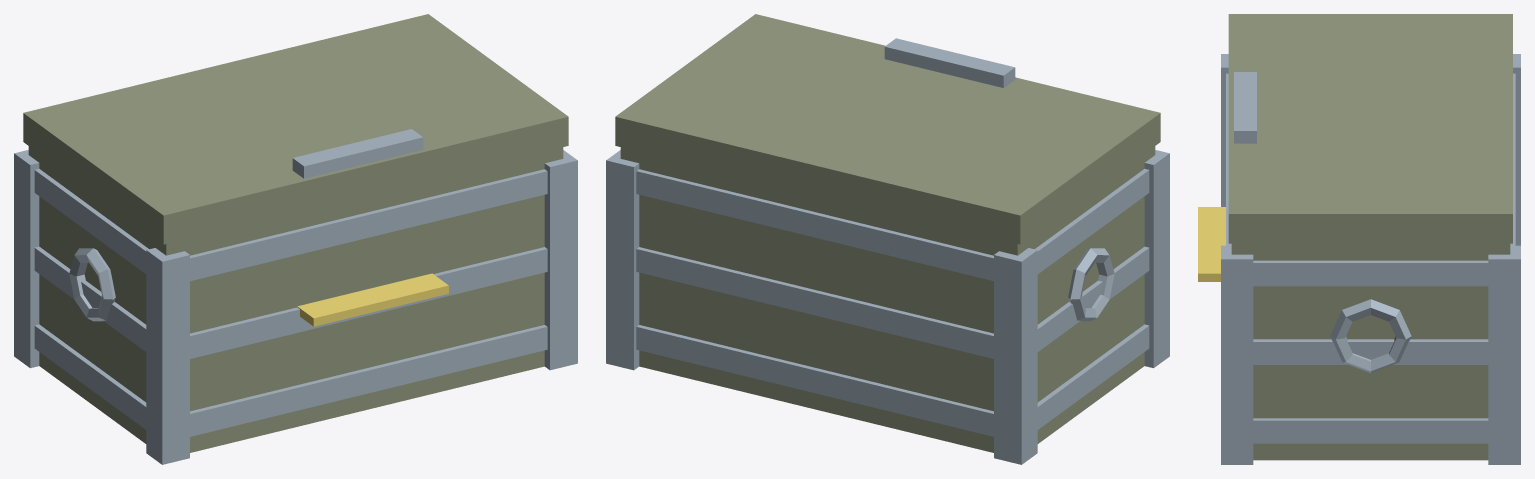
Rendered from wipe-day-survival-island-military-crate-64ac4aa5__27446.glb.
The picture shows the model from 3 angles, left to right: view 1: azimuth 30°, elevation 25°; view 2: azimuth 150°, elevation 25°; view 3: azimuth 270°, elevation 25°; orthographic projection.
Visible parts, largest first — view 1: military-crate, lid/cloth, lid/metal; view 2: military-crate, lid/cloth, lid/metal; view 3: military-crate, lid/cloth, lid/metal.
Boxes of the visible parts, bbox=[...] form: military-crate: bbox=[14, 146, 577, 464]; lid/cloth: bbox=[23, 14, 568, 244]; lid/metal: bbox=[292, 129, 423, 178]; military-crate: bbox=[606, 146, 1169, 464]; lid/cloth: bbox=[615, 14, 1160, 244]; lid/metal: bbox=[884, 38, 1015, 87]; military-crate: bbox=[1198, 54, 1520, 464]; lid/cloth: bbox=[1228, 14, 1512, 243]; lid/metal: bbox=[1234, 72, 1256, 143].
Bounding box in the file's own units: 1.05 × 0.62 × 0.695.
